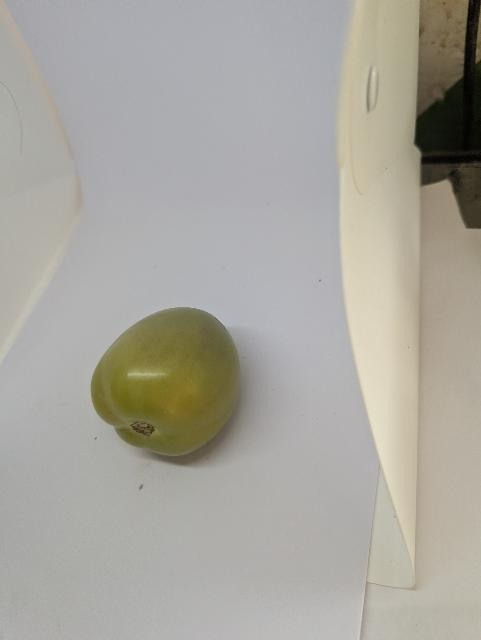green: (81, 293, 248, 474)
